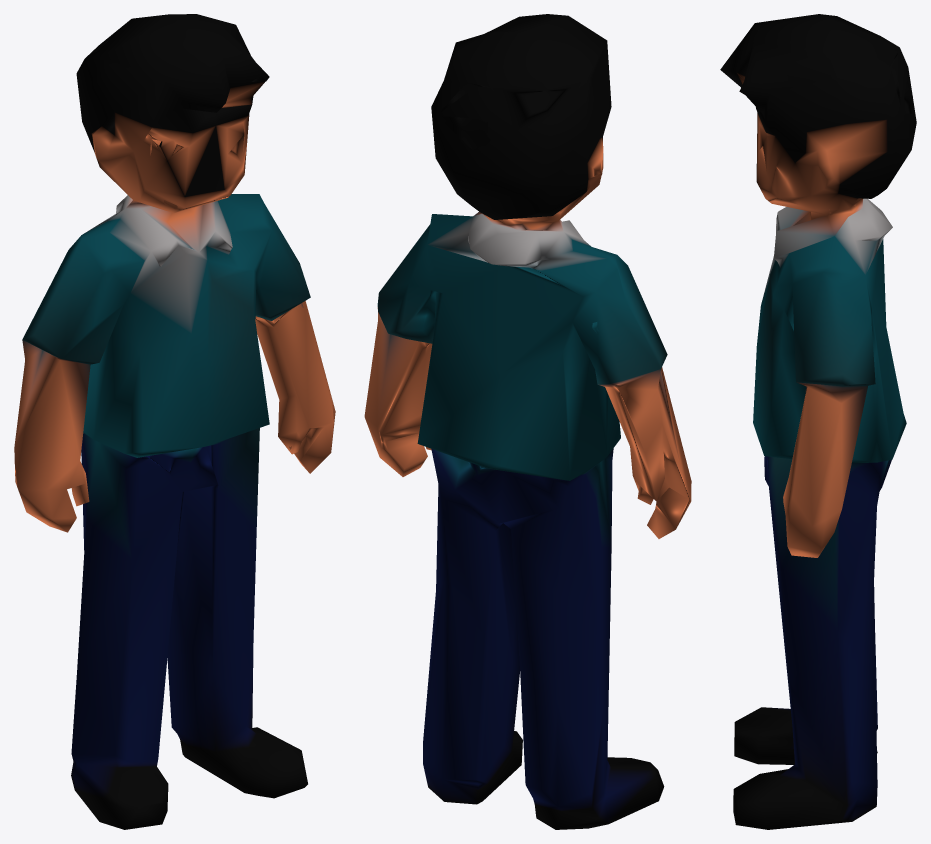
Rendered from gen3d-teacher-lod1.glb.
The picture shows the model from 3 angles, left to right: view 1: azimuth 30°, elevation 25°; view 2: azimuth 150°, elevation 25°; view 3: azimuth 270°, elevation 25°; orthographic projection.
Parts seen in each view (by area): view 1: part_0; view 2: part_0; view 3: part_0.
Part boxes in pixels (<box>): part_0: <box>14,14,335,829</box>; part_0: <box>364,14,691,829</box>; part_0: <box>720,14,916,829</box>.
Size of the model in its own units: 0.4359 by 1 by 0.2329.
